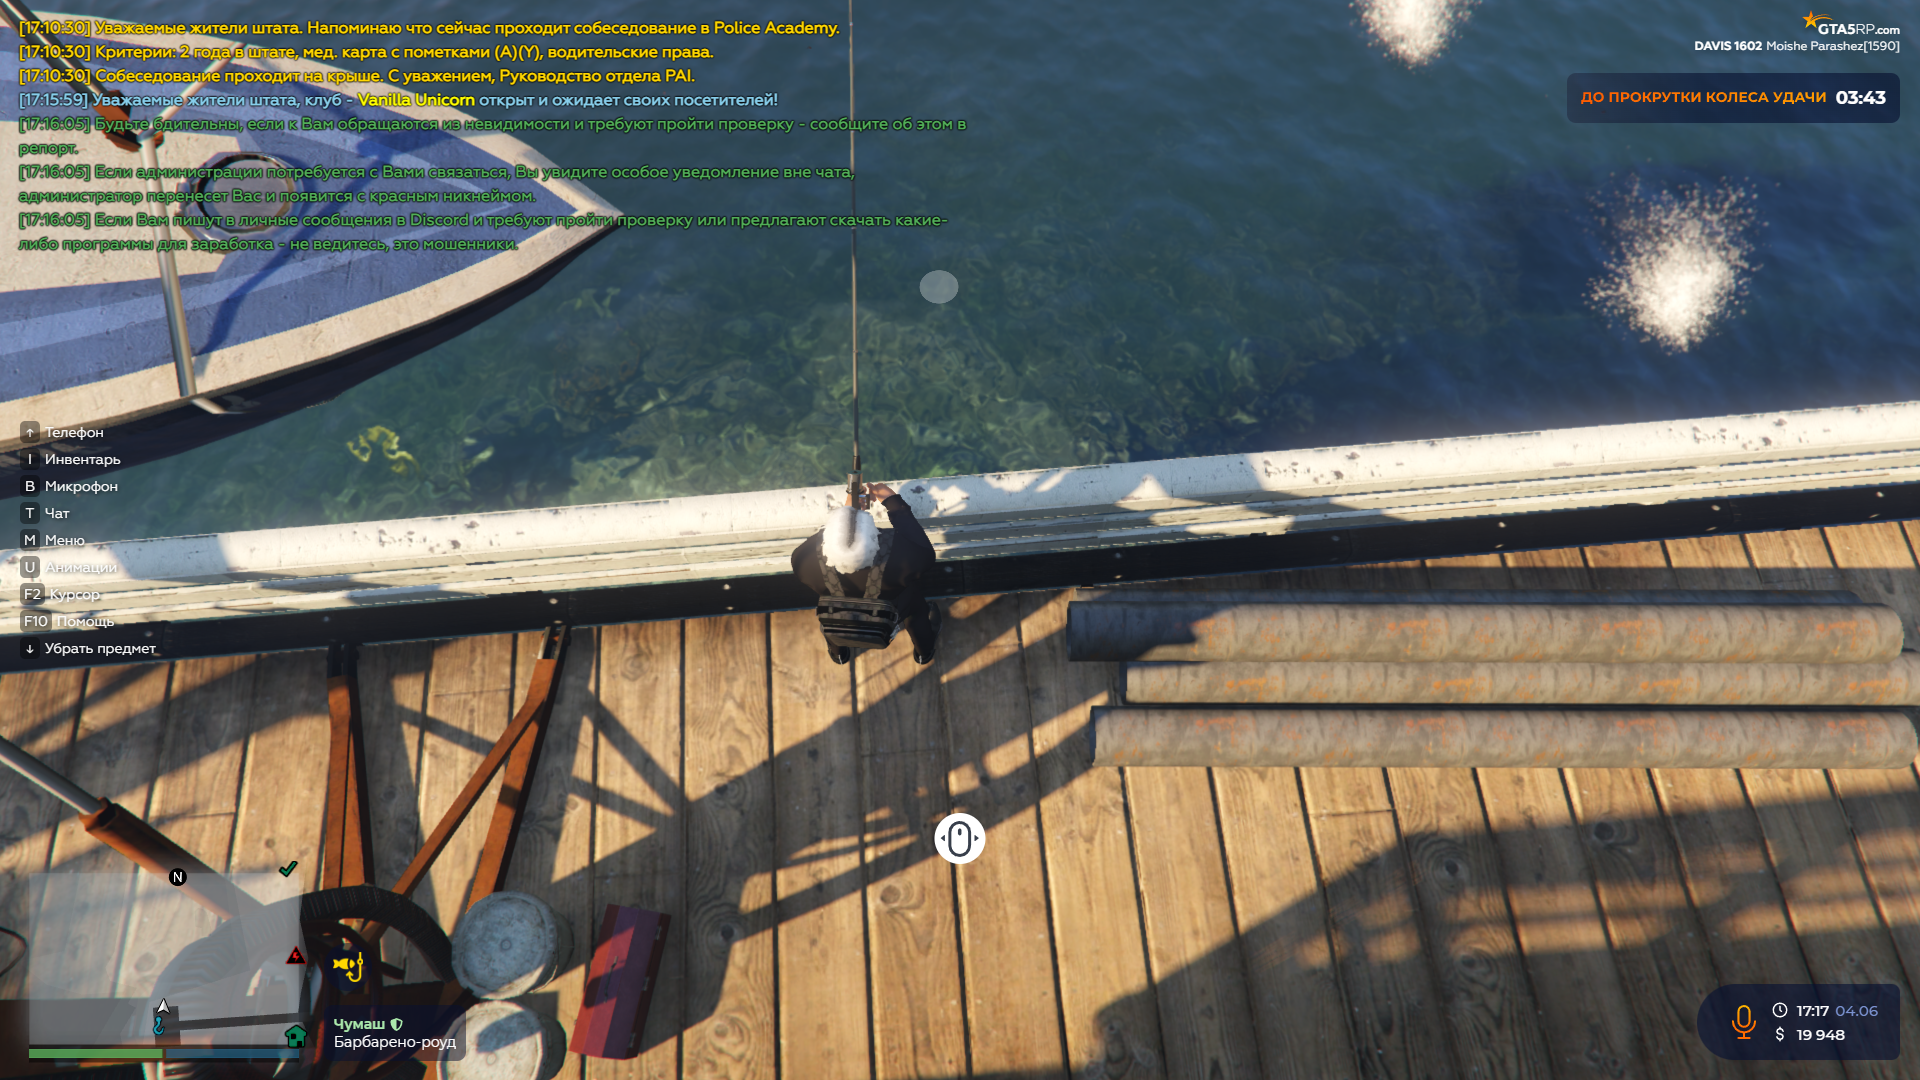circle: (920, 268, 957, 305)
